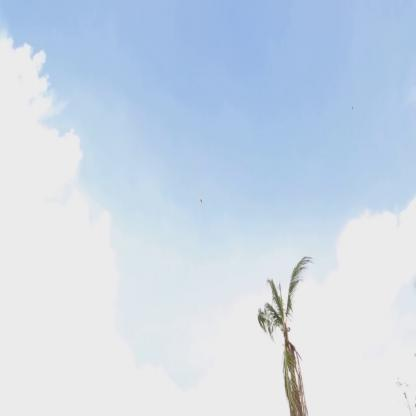drone: (199, 196, 207, 207)
